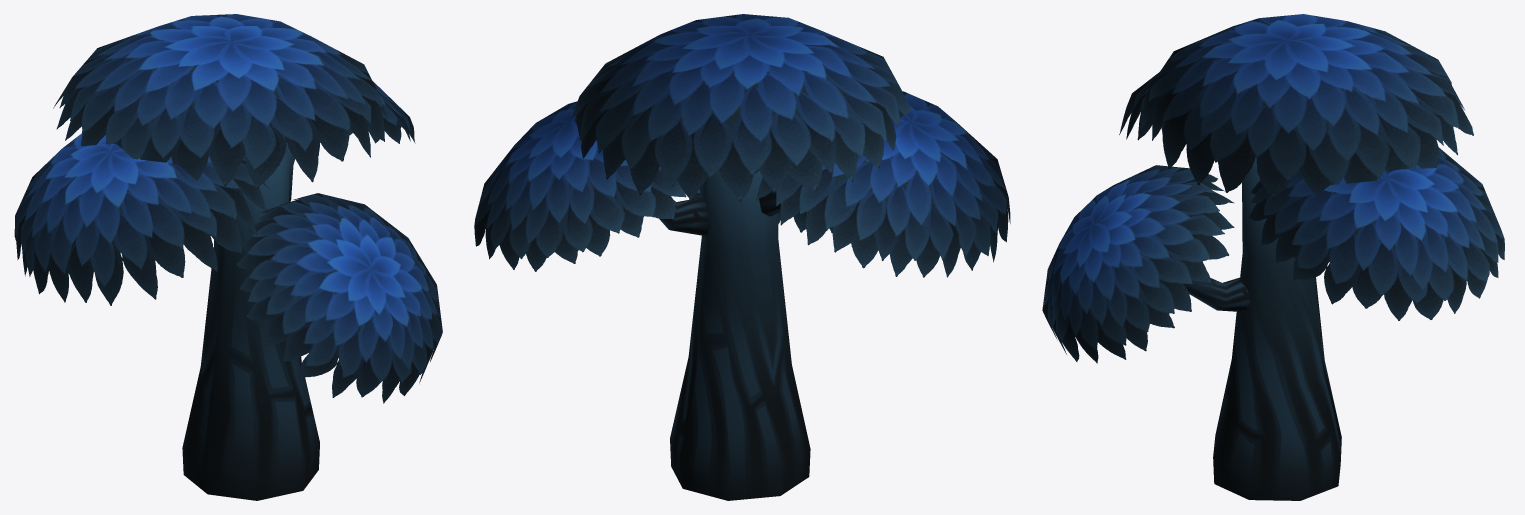
Rendered from Tree1.FBX.
3 renders of one model, left to right at view 1: azimuth 30°, elevation 25°; view 2: azimuth 150°, elevation 25°; view 3: azimuth 270°, elevation 25°, orthographic. The views are drawn at different scales.
Parts seen in each view (by area): view 1: Tree1; view 2: Tree1; view 3: Tree1.
Boxes of the visible parts, x1=… form: Tree1: x1=14, y1=14, x2=442, y2=500; Tree1: x1=474, y1=14, x2=1010, y2=500; Tree1: x1=1042, y1=14, x2=1504, y2=500.
Size of the model in its own units: 222 by 213 by 211.
